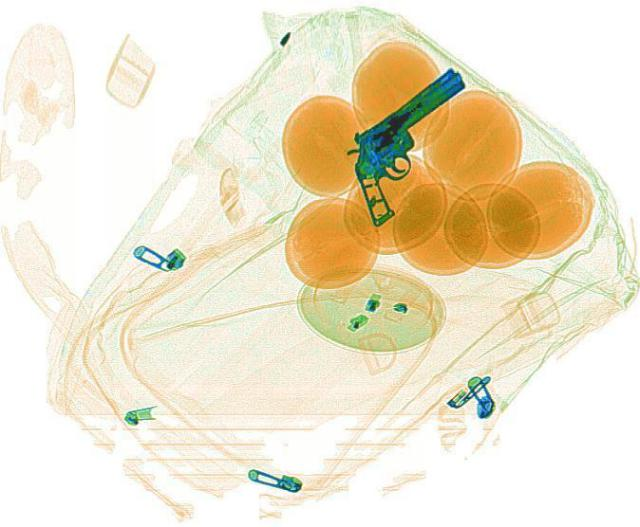Gun: (302, 62, 522, 226)
